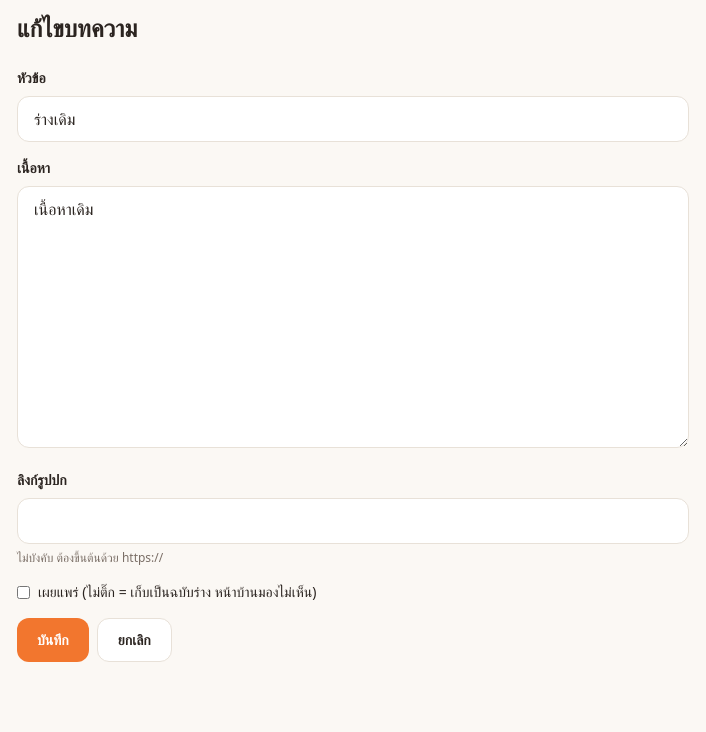
it: แก้ไข โหลดของเดิมมาใส่ฟอร์ม และถ้า server ไม่รับ ต้องโชว์ข้อความ
This screenshot has width=706, height=732.
Expected: the field showing "ร่างเดิม" is shown, [17,96,689,142]
Click the button "บันทึก": (53, 640) [17,618,89,662]
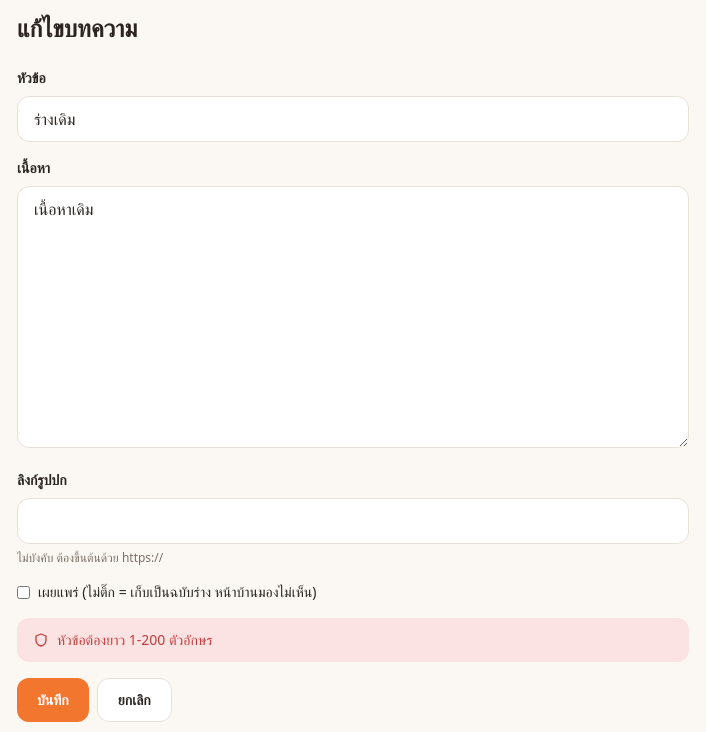
Now the message reads "หัวข้อต้องยาว 1-200 ตัวอักษร", box [57,630,213,649]
